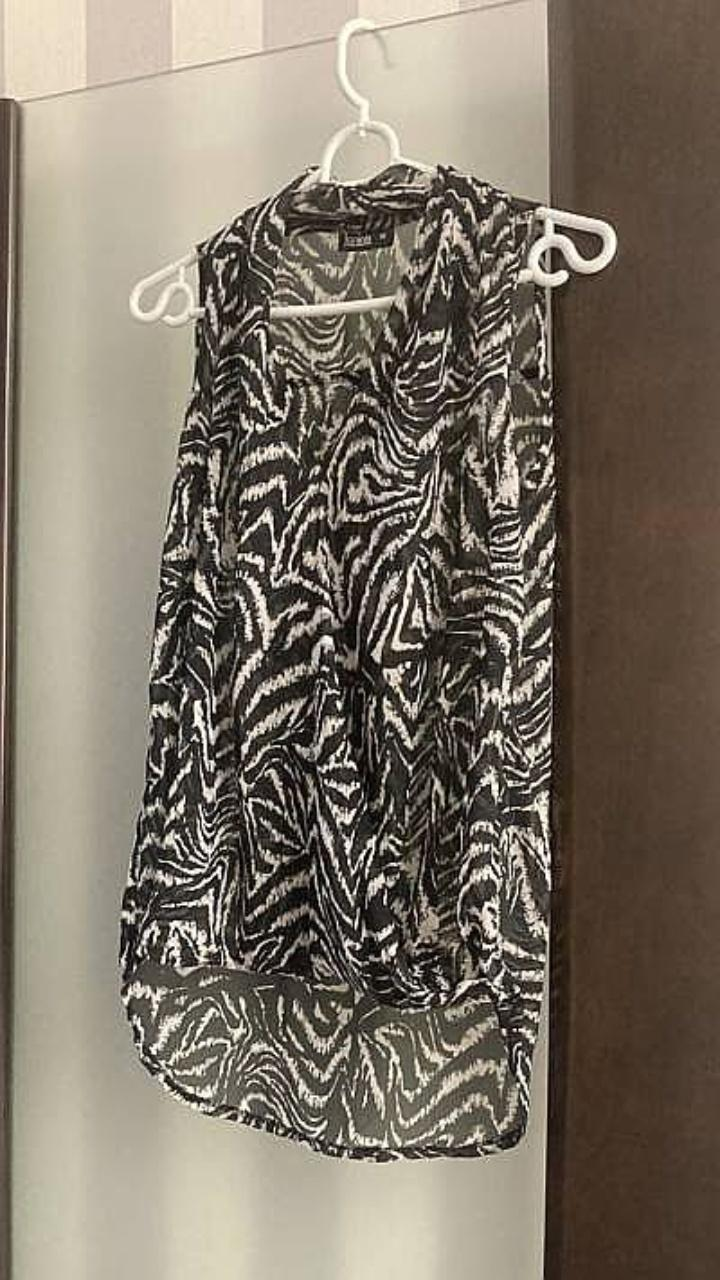Dresses: (120, 164, 554, 1160)
